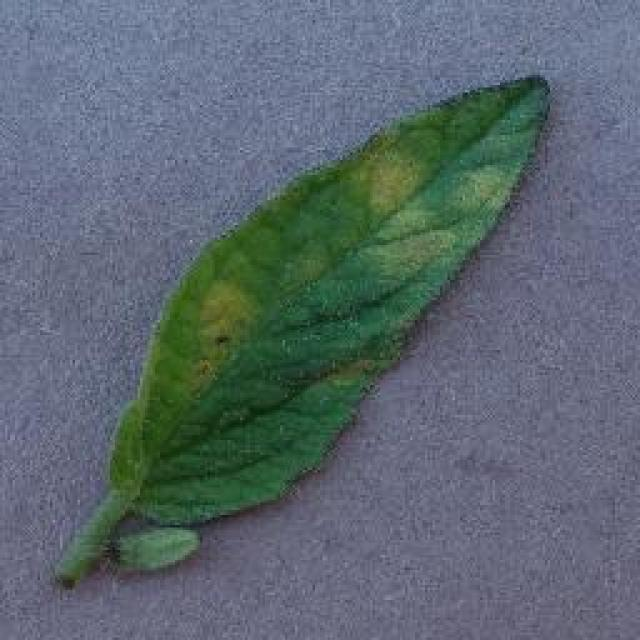Tomato mold leaf: (105, 71, 550, 526)
